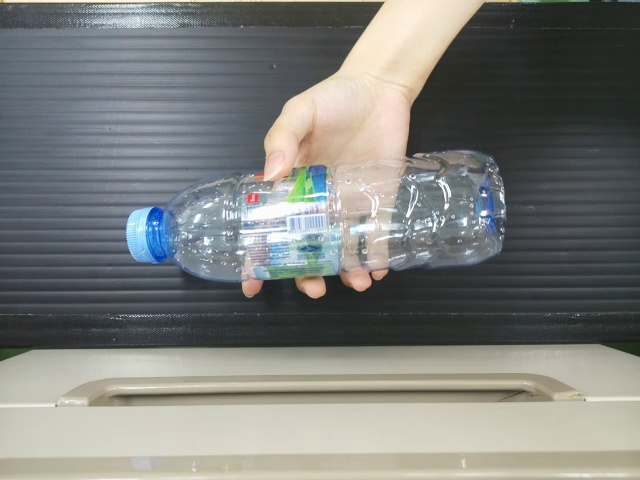bottle: (123, 155, 511, 281)
